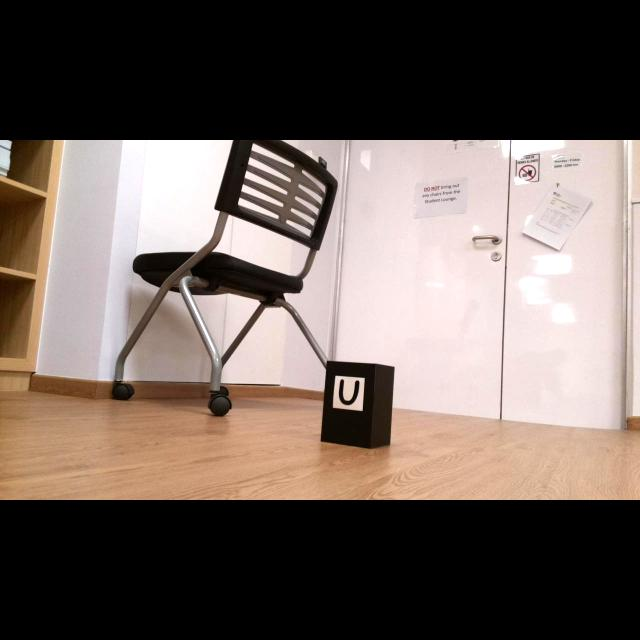U: (338, 379, 360, 405)
